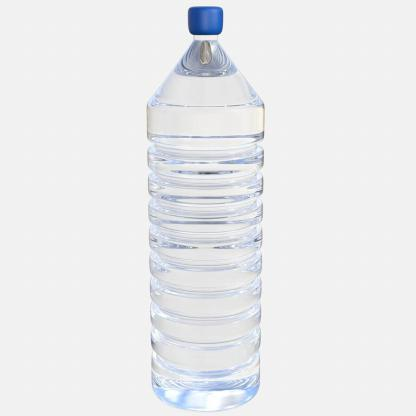bottle: (128, 0, 276, 415)
